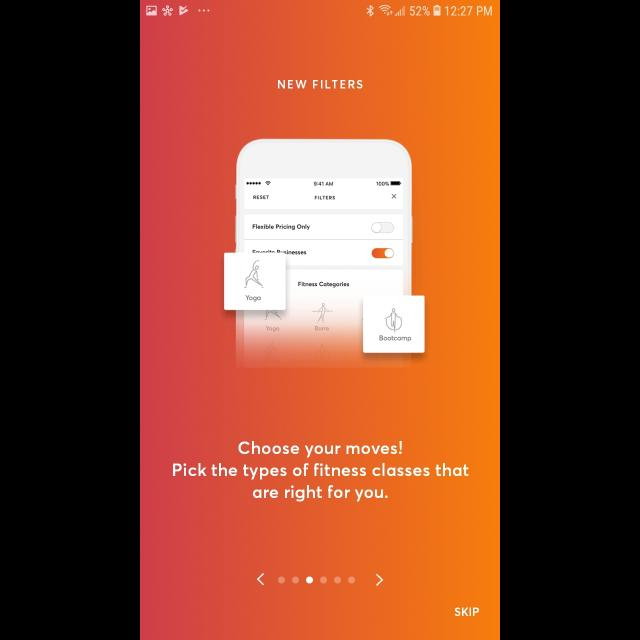icon: (257, 572, 265, 586), (376, 574, 384, 586)
image: (223, 140, 424, 368)
pageindicator: (278, 576, 356, 584)
text: (173, 441, 469, 502), (278, 80, 362, 90), (454, 608, 480, 616)
uppertaskbar: (140, 1, 500, 18)
